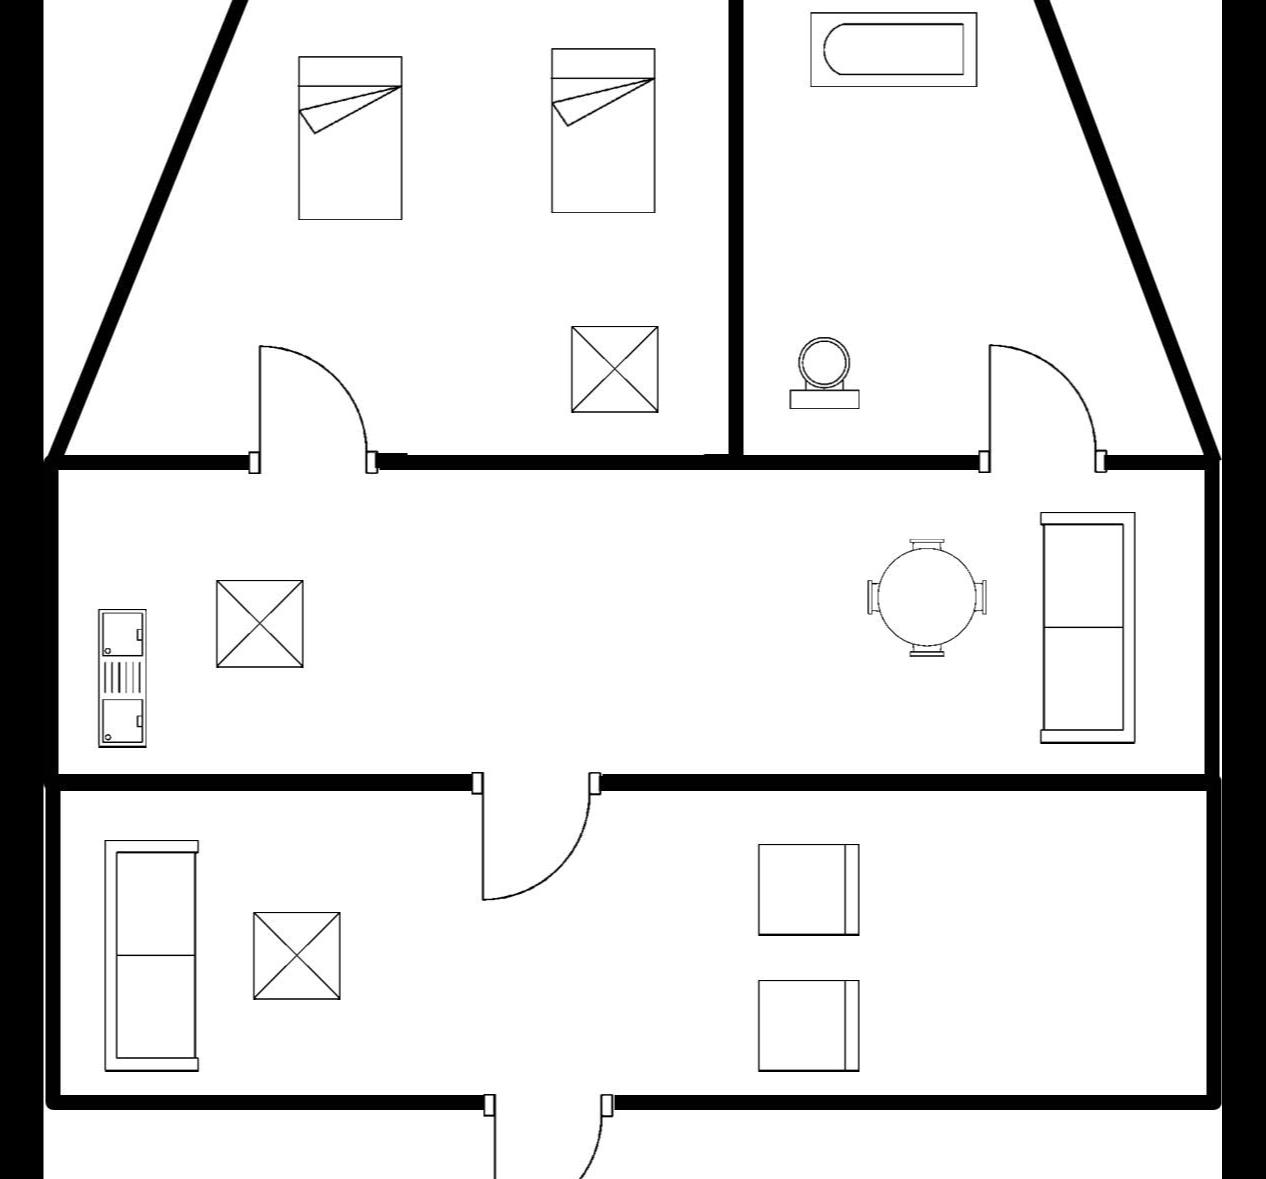sink: (92, 598, 156, 757)
